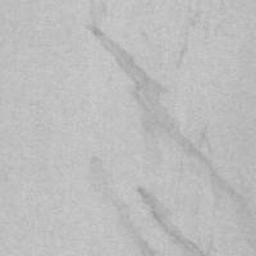Water spot: (84, 23, 256, 256), (86, 155, 161, 256), (134, 184, 210, 256)
